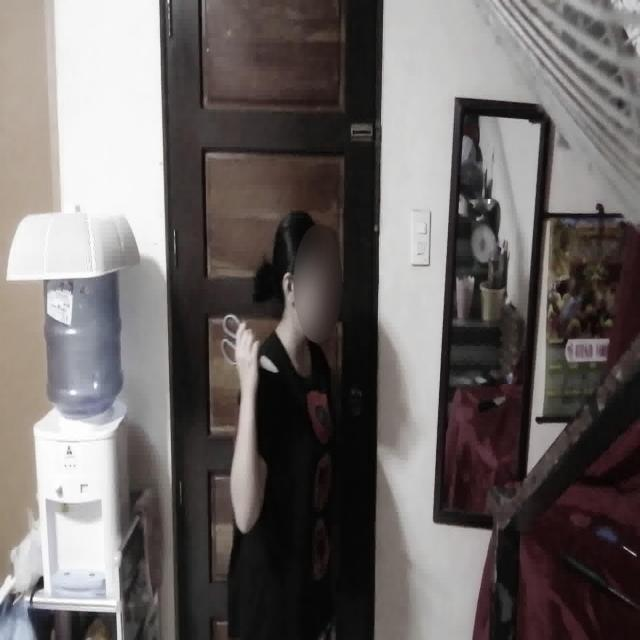scissor: (221, 312, 279, 374)
